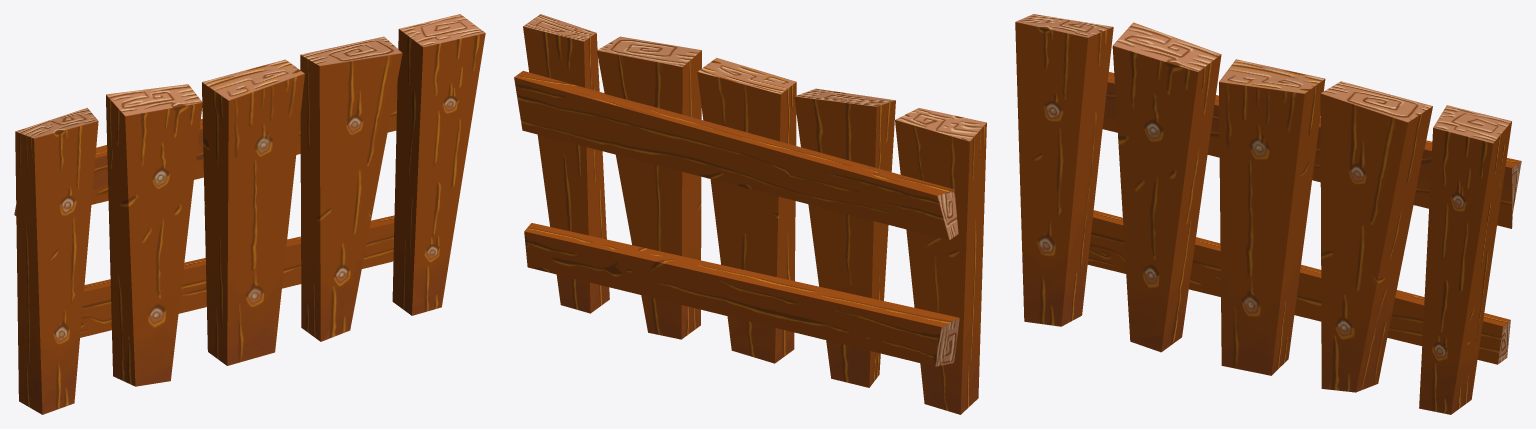
Rendered from Fence-01.fbx.
3 views of the same model, side by side, from view 1: azimuth 30°, elevation 25°; view 2: azimuth 150°, elevation 25°; view 3: azimuth 330°, elevation 25° (orthographic). The views are drawn at different scales.
Parts seen in each view (by area): view 1: fence_01; view 2: fence_01; view 3: fence_01.
Boxes of the visible parts, <box> form: fence_01: <box>14,14,485,414</box>; fence_01: <box>514,14,986,414</box>; fence_01: <box>1015,14,1521,414</box>.
Size of the model in its own units: 409 by 249 by 51.28.
Materials: 1 (1 with a texture image).
